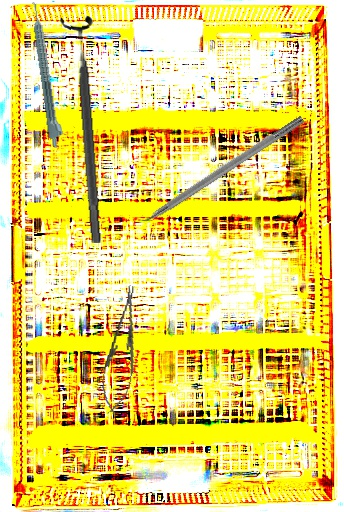Fixation Ring: (58, 15, 115, 245)
Handpiece: (29, 0, 67, 149)
Hook Surgical: (123, 113, 306, 237)
Needle Holder: (96, 281, 148, 418)
